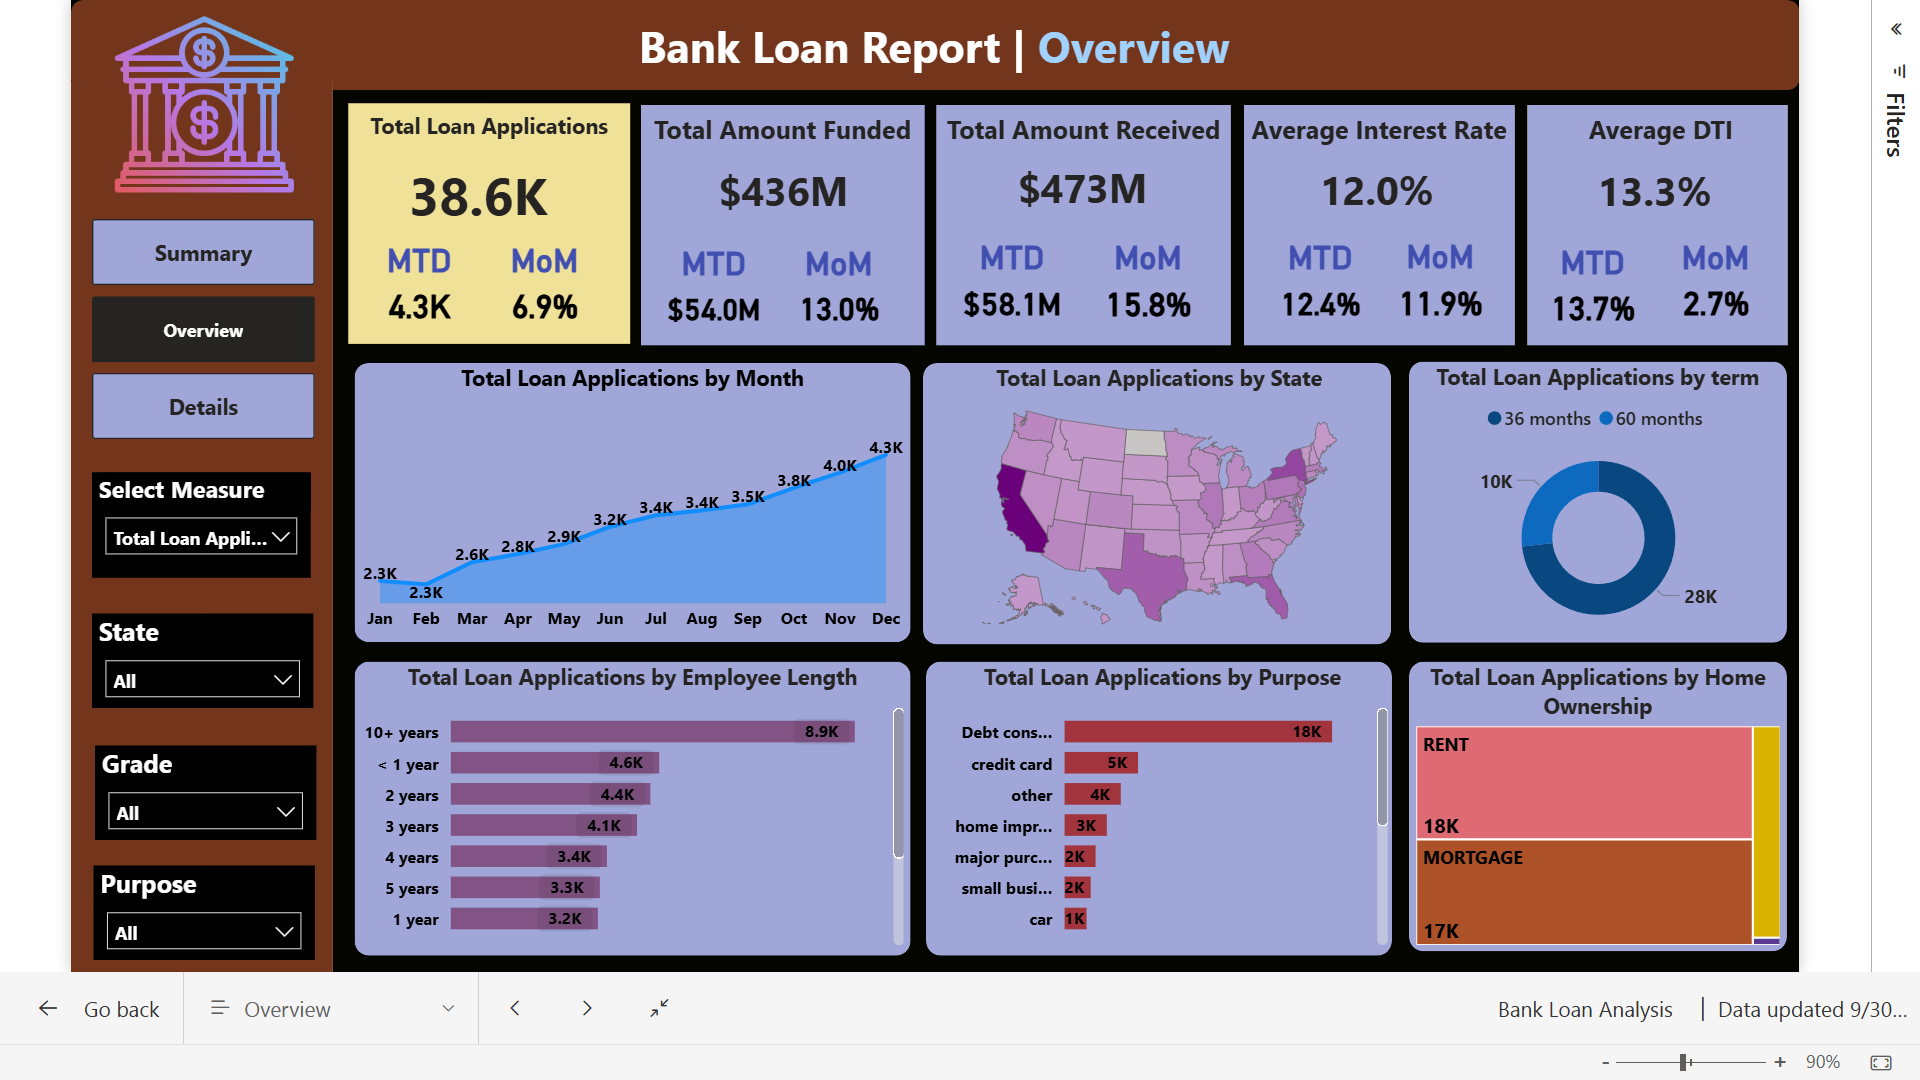

This screenshot's page, from the dashboard's own definition file:
{"tool":"powerbi","page":{"name":"Overview","canvas":[1280,720],"ordinal":1},"visuals":[{"type":"shape","title":"Bank Loan Report | Summarr","box":[0,0,1280.4,66.8],"z":0},{"type":"textbox","box":[205.2,76.3,208.4,178.1],"z":0,"group":"g1"},{"type":"textbox","box":[422.7,77.9,210,178.1],"z":0,"group":"g2"},{"type":"textbox","box":[641,77.9,217.9,178.1],"z":0,"group":"g3"},{"type":"textbox","box":[868.9,77.9,200.4,178.1],"z":0,"group":"g4"},{"type":"textbox","box":[1078.4,77.9,192.5,178.1],"z":0,"group":"g5"},{"type":"textbox","box":[383.3,6.4,512.2,54.1],"z":1000},{"type":"card","fields":{"Values":["bank_loan_data.Total Amount Recieved"]},"box":[691.9,116.2,112.9,47.7],"z":1000,"group":"g3"},{"type":"card","fields":{"Values":["bank_loan_data.Total Funded Amount"]},"box":[472.5,117.8,109.8,47.7],"z":1000,"group":"g2"},{"type":"card","fields":{"Values":["bank_loan_data.Average Interest Rate"]},"box":[913.6,117.8,106.6,46.1],"z":1000,"group":"g4"},{"type":"card","fields":{"Values":["Data Table.Avg DTI"]},"box":[1119.1,117.8,105,47.7],"z":1000,"group":"g5"},{"type":"card","fields":{"Values":["bank_loan_data.Total Loan Applicants"]},"box":[243.1,120.3,116.1,44.5],"z":1000,"group":"g1"},{"type":"shape","box":[0,60.4,194.1,660.1],"z":2000},{"type":"group","id":"g1","title":"Group 1","box":[205.2,76.3,208.4,178.1],"z":3000},{"type":"group","id":"g2","title":"Group 1","box":[422.7,77.9,210,178.1],"z":4000},{"type":"group","id":"g3","title":"Group 1","box":[641,77.9,217.9,178.1],"z":5000},{"type":"group","id":"g4","title":"Group 1","box":[868.9,77.9,200.4,178.1],"z":6000},{"type":"card","title":"MTD","fields":{"Values":["Data Table.MTD Amount Recieved"]},"box":[655.9,176.6,82.7,68.4],"z":6000,"group":"g3"},{"type":"card","title":"MTD","fields":{"Values":["bank_loan_data.MTD Average Interest Rate"]},"box":[887,176.9,77.2,68.4],"z":6000,"group":"g4"},{"type":"card","title":"MTD","fields":{"Values":["bank_loan_data.MTD"]},"box":[217.8,178.3,80.1,67.1],"z":6000,"group":"g1"},{"type":"card","title":"MTD","fields":{"Values":["bank_loan_data.MTD Avg DTI"]},"box":[1090,179.9,74,67.1],"z":6000,"group":"g5"},{"type":"card","title":"MTD","fields":{"Values":["bank_loan_data.MTD Funded Amount"]},"box":[435.7,180.7,80.8,67.1],"z":6000,"group":"g2"},{"type":"group","id":"g5","title":"Group 1","box":[1078.4,77.9,192.5,178.1],"z":7000},{"type":"group","id":"g6","title":"Group 2","box":[210,268.8,412,206.8],"z":8000},{"type":"card","title":"MoM","fields":{"Values":["bank_loan_data.PMTD Average Interest Rate"]},"box":[975.3,175.3,77.2,68.4],"z":8500,"group":"g4"},{"type":"card","title":"MoM","fields":{"Values":["Data Table.MoM Amount Recieved"]},"box":[755.5,176.6,84.3,68.4],"z":8500,"group":"g3"},{"type":"card","title":"MoM","fields":{"Values":["Data Table.MoM Avg DTI"]},"box":[1179.5,176.6,76.3,66.8],"z":8500,"group":"g5"},{"type":"card","title":"MoM","fields":{"Values":["bank_loan_data.MoM"]},"box":[309.4,178.3,81.3,67.1],"z":8500,"group":"g1"},{"type":"card","title":"MoM","fields":{"Values":["Data Table.MoM Funded Applications"]},"box":[528,180.7,81.9,67.1],"z":8500,"group":"g2"},{"type":"shape","box":[210,268.8,412,206.8],"z":9000,"group":"g6"},{"type":"group","id":"g7","title":"Group 2","box":[631.5,268.8,346.7,208.5],"z":9000},{"type":"shape","box":[631.5,268.8,346.7,208.5],"z":9000,"group":"g7"},{"type":"shape","box":[210,489.9,412,217.9],"z":9000,"group":"g8"},{"type":"shape","box":[991,267.2,279.9,208.4],"z":10000},{"type":"shape","box":[633.1,489.9,345.2,217.9],"z":11000},{"type":"slicer","title":"State","fields":{"Values":["bank_loan_data.address_state"]},"box":[15.9,454.9,163.8,70],"z":12000},{"type":"slicer","title":"Grade","fields":{"Values":["bank_loan_data.grade"]},"box":[17.5,551.9,163.8,70],"z":13000},{"type":"slicer","title":"Purpose","fields":{"Values":["bank_loan_data.purpose"]},"box":[16.4,641,163.8,70],"z":14000},{"type":"slicer","title":"Select Measure","fields":{"Values":["Select Measure.Select Measure"]},"box":[15.9,349.9,162.2,77.9],"z":15000},{"type":"areaChart","fields":{"Y":["bank_loan_data.Total Amount Recieved"],"Category":["Data Table.Month"]},"box":[210,268.8,412,206.8],"z":16000},{"type":"donutChart","fields":{"Y":["bank_loan_data.Total Amount Recieved"],"Category":["bank_loan_data.term"]},"box":[991,267.2,279.9,210],"z":17000},{"type":"group","id":"g8","title":"Group 2","box":[210,489.9,412,217.9],"z":18000},{"type":"shape","box":[991,489.9,279.9,214.7],"z":19000},{"type":"pageNavigator","box":[15.9,162.2,165.4,163.8],"z":20000},{"type":"barChart","fields":{"Y":["bank_loan_data.Total Amount Recieved"],"Category":["bank_loan_data.emp_length"]},"box":[210,489.9,412,214.7],"z":21000},{"type":"image","box":[17.5,6.4,162.2,143.2],"z":22000},{"type":"barChart","fields":{"Y":["bank_loan_data.Total Amount Recieved"],"Category":["bank_loan_data.purpose"]},"box":[636.2,489.9,343.6,214.7],"z":23000},{"type":"treemap","fields":{"Values":["bank_loan_data.Total Amount Recieved"],"Group":["bank_loan_data.home_ownership"]},"box":[991,489.9,279.9,214.7],"z":24000},{"type":"shapeMap","fields":{"Value":["bank_loan_data.Total Amount Recieved"],"Category":["bank_loan_data.address_state"]},"box":[636.2,268.8,338.8,206.8],"z":25000}]}

Visuals, with their boxes on the page's 1280x720 design canvas (x1, y1, x2, y2). These are canvas units, not pixel positions in the 1920x1080 screenshot, which may show the page scaled, cropped or inside an application window:
"Bank Loan Report | Summarr" shape: left=0, top=0, right=1280, bottom=67
textbox: left=205, top=76, right=414, bottom=254
textbox: left=423, top=78, right=633, bottom=256
textbox: left=641, top=78, right=859, bottom=256
textbox: left=869, top=78, right=1069, bottom=256
textbox: left=1078, top=78, right=1271, bottom=256
textbox: left=383, top=6, right=896, bottom=60
card - bank_loan_data.Total Amount Recieved: left=692, top=116, right=805, bottom=164
card - bank_loan_data.Total Funded Amount: left=472, top=118, right=582, bottom=166
card - bank_loan_data.Average Interest Rate: left=914, top=118, right=1020, bottom=164
card - Data Table.Avg DTI: left=1119, top=118, right=1224, bottom=166
card - bank_loan_data.Total Loan Applicants: left=243, top=120, right=359, bottom=165
shape: left=0, top=60, right=194, bottom=720
"Group 1" group: left=205, top=76, right=414, bottom=254
"Group 1" group: left=423, top=78, right=633, bottom=256
"Group 1" group: left=641, top=78, right=859, bottom=256
"Group 1" group: left=869, top=78, right=1069, bottom=256
"MTD" card: left=656, top=177, right=739, bottom=245
"MTD" card: left=887, top=177, right=964, bottom=245
"MTD" card: left=218, top=178, right=298, bottom=245
"MTD" card: left=1090, top=180, right=1164, bottom=247
"MTD" card: left=436, top=181, right=516, bottom=248
"Group 1" group: left=1078, top=78, right=1271, bottom=256
"Group 2" group: left=210, top=269, right=622, bottom=476
"MoM" card: left=975, top=175, right=1052, bottom=244
"MoM" card: left=756, top=177, right=840, bottom=245
"MoM" card: left=1180, top=177, right=1256, bottom=243
"MoM" card: left=309, top=178, right=391, bottom=245
"MoM" card: left=528, top=181, right=610, bottom=248
shape: left=210, top=269, right=622, bottom=476
"Group 2" group: left=632, top=269, right=978, bottom=477
shape: left=632, top=269, right=978, bottom=477
shape: left=210, top=490, right=622, bottom=708
shape: left=991, top=267, right=1271, bottom=476
shape: left=633, top=490, right=978, bottom=708
"State" slicer: left=16, top=455, right=180, bottom=525
"Grade" slicer: left=18, top=552, right=181, bottom=622
"Purpose" slicer: left=16, top=641, right=180, bottom=711
"Select Measure" slicer: left=16, top=350, right=178, bottom=428
areaChart - bank_loan_data.Total Amount Recieved x Data Table.Month: left=210, top=269, right=622, bottom=476
donutChart - bank_loan_data.Total Amount Recieved x bank_loan_data.term: left=991, top=267, right=1271, bottom=477
"Group 2" group: left=210, top=490, right=622, bottom=708
shape: left=991, top=490, right=1271, bottom=705
pageNavigator: left=16, top=162, right=181, bottom=326
barChart - bank_loan_data.Total Amount Recieved x bank_loan_data.emp_length: left=210, top=490, right=622, bottom=705
image: left=18, top=6, right=180, bottom=150
barChart - bank_loan_data.Total Amount Recieved x bank_loan_data.purpose: left=636, top=490, right=980, bottom=705
treemap - bank_loan_data.Total Amount Recieved x bank_loan_data.home_ownership: left=991, top=490, right=1271, bottom=705
shapeMap - bank_loan_data.Total Amount Recieved x bank_loan_data.address_state: left=636, top=269, right=975, bottom=476
